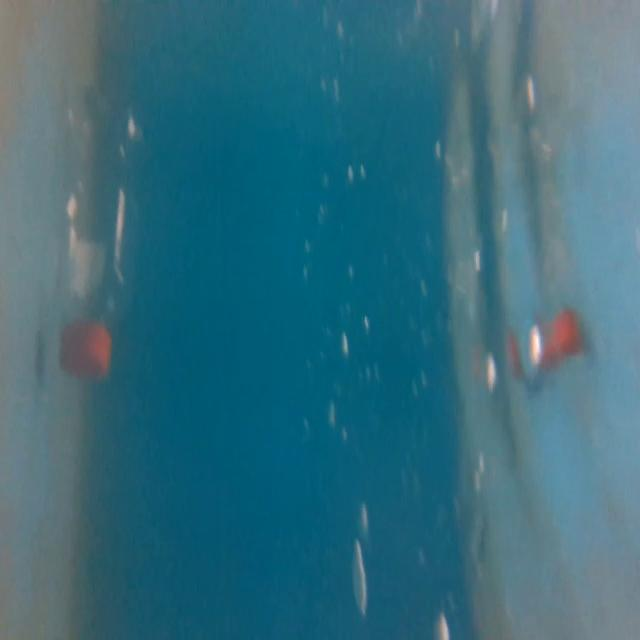plastic bottle: (47, 97, 149, 384)
